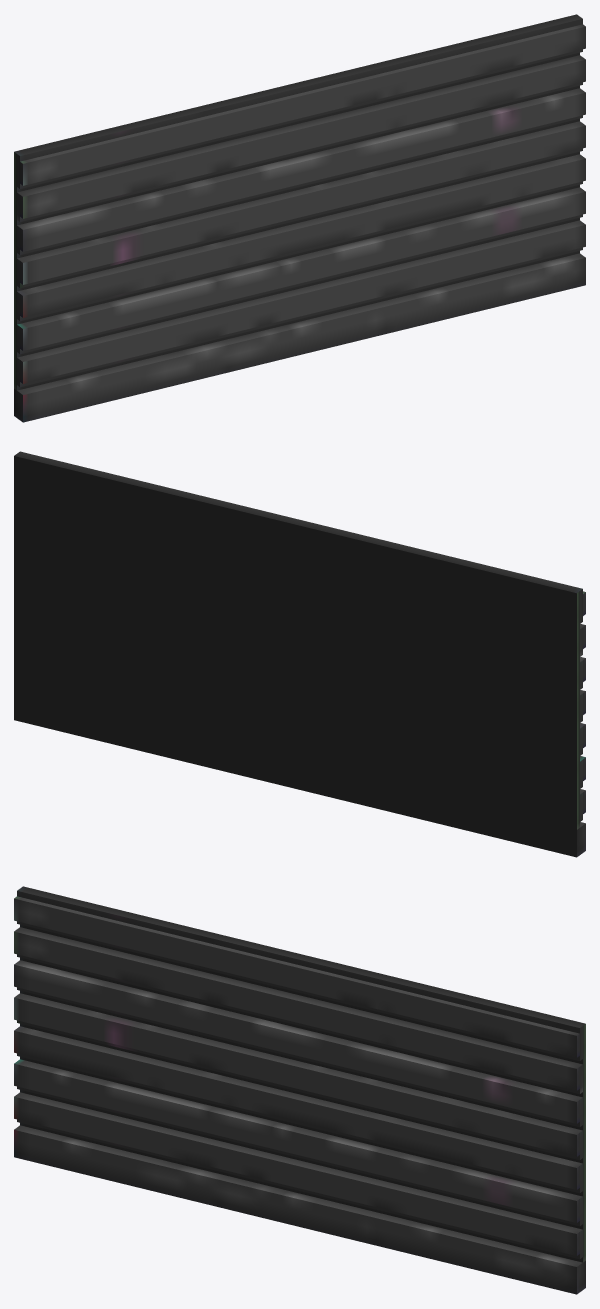
The model's file is Entrance_Door_B_00.fbx.
3 views of the same model, one above another, from view 1: azimuth 30°, elevation 25°; view 2: azimuth 150°, elevation 25°; view 3: azimuth 330°, elevation 25° (orthographic).
Parts seen in each view (by area): view 1: Entrance_Door_B_00; view 2: Entrance_Door_B_00; view 3: Entrance_Door_B_00.
Boxes of the visible parts, <box> form: Entrance_Door_B_00: <box>14,14,585,422</box>; Entrance_Door_B_00: <box>14,451,585,857</box>; Entrance_Door_B_00: <box>14,886,585,1294</box>.
Bounding box in the file's own units: 535 × 240 × 15.
